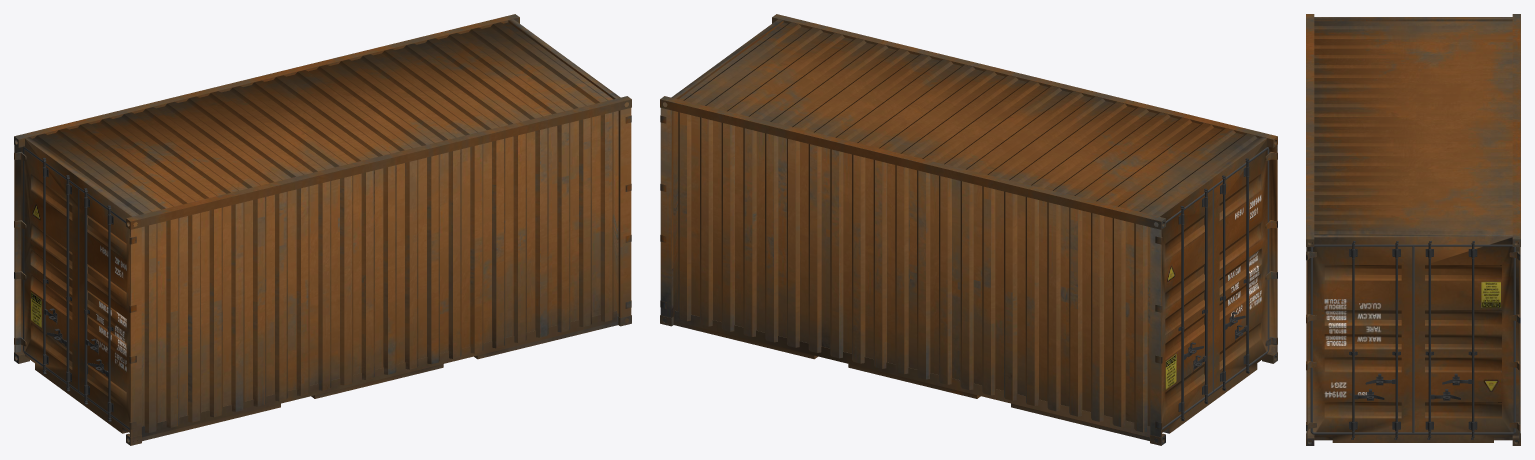
File: container_naranja.glb
3 renders of one model, left to right at view 1: azimuth 30°, elevation 25°; view 2: azimuth 150°, elevation 25°; view 3: azimuth 270°, elevation 25°, orthographic. The views are drawn at different scales.
Visible parts, largest first — view 1: petikemas; view 2: petikemas; view 3: petikemas.
Part boxes in pixels (<box>): petikemas: <box>14,14,631,445</box>; petikemas: <box>660,14,1277,445</box>; petikemas: <box>1306,14,1520,445</box>.
Bounding box in the file's own units: 6.07 × 2.59 × 2.44.
Materials: 3 (3 with a texture image).
